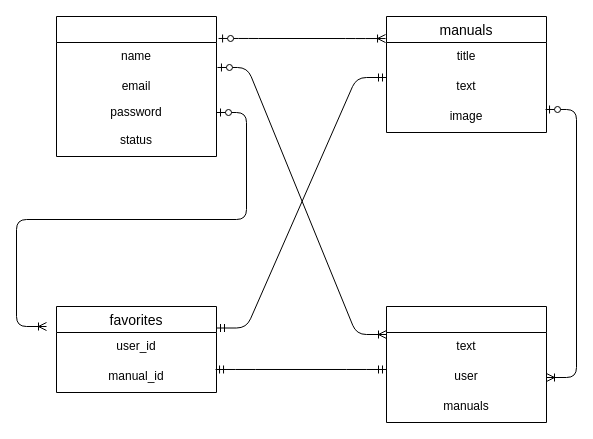
This 593x439 diagram has some shape labels left out. The shapes that lost their labels are listed below. From the top down, each one's box as (x1, y1, x2, y2) in pixels, then its label:
(56, 16, 216, 156): users
(386, 306, 546, 422): comments
